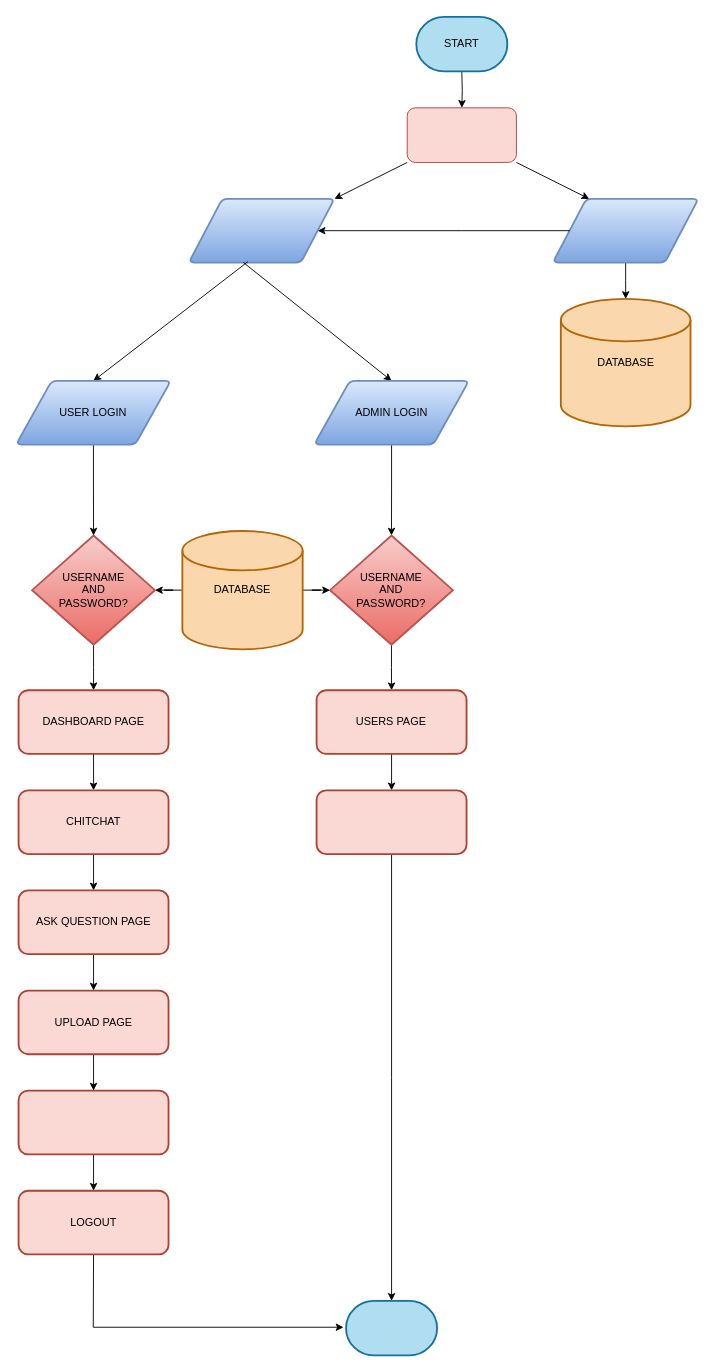
Image size: 715x1371. Some labels were removed from this diagram. Each missing label, with the centre of its shape:
"EDIT PAGE" goes at point (391, 821).
"END" goes at point (391, 1327).
"HOME PAGE" goes at point (461, 134).
"LOGIN PAGE" goes at point (261, 230).
"REGISTER PAGE" goes at point (625, 230).
"USERCHAT PAGE" goes at point (93, 1122).
